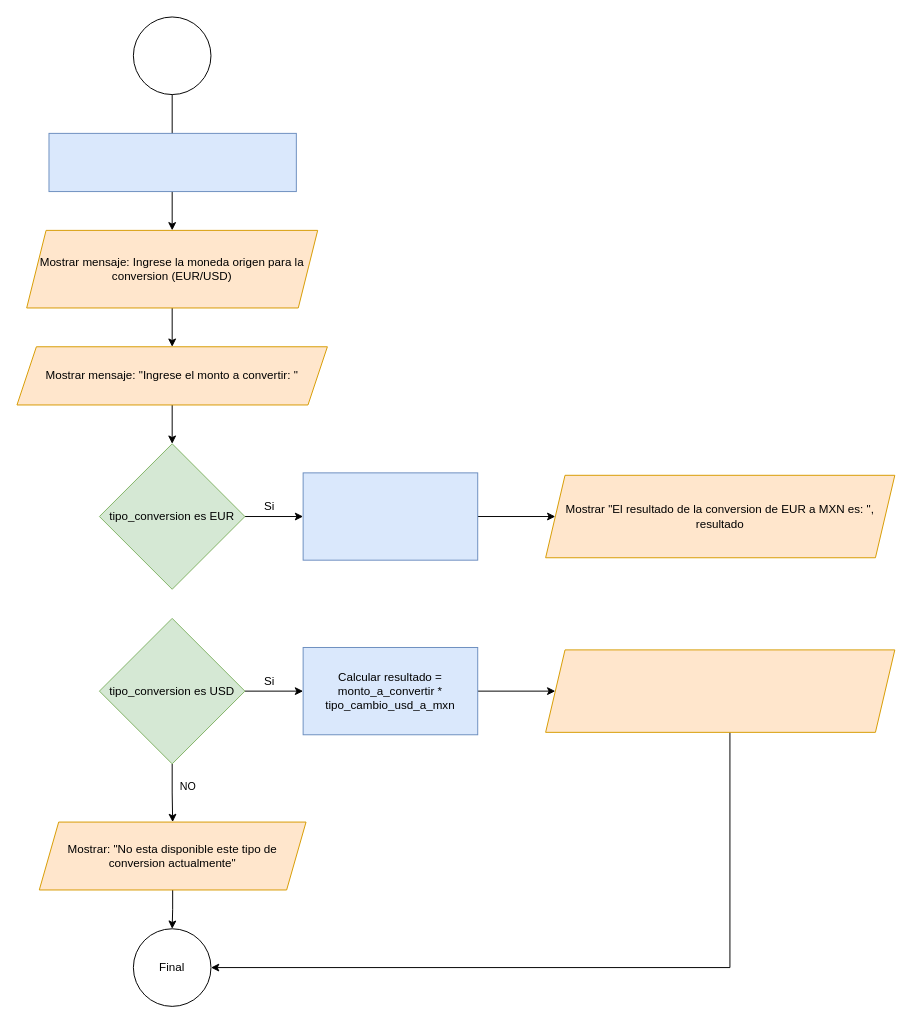
Some shapes in this 912 by 1023 pixel diagram are drawn without their labels. Here are the shapes that lost their labels. From the top down, the centre of each, then its label:
pixel 171 55: Inicio
pixel 172 162: Definir tipo_cambio_eur_a_mxn = 23.70 Definir tipo_cambio_usd_a_mxn = 20.75
pixel 390 516: Calcular resultado = monto_a_convertir * tipo_cambio_eur_a_mxn
pixel 720 690: Mostrar "El resultado de la conversion de USD a MXN es: ", resultado
